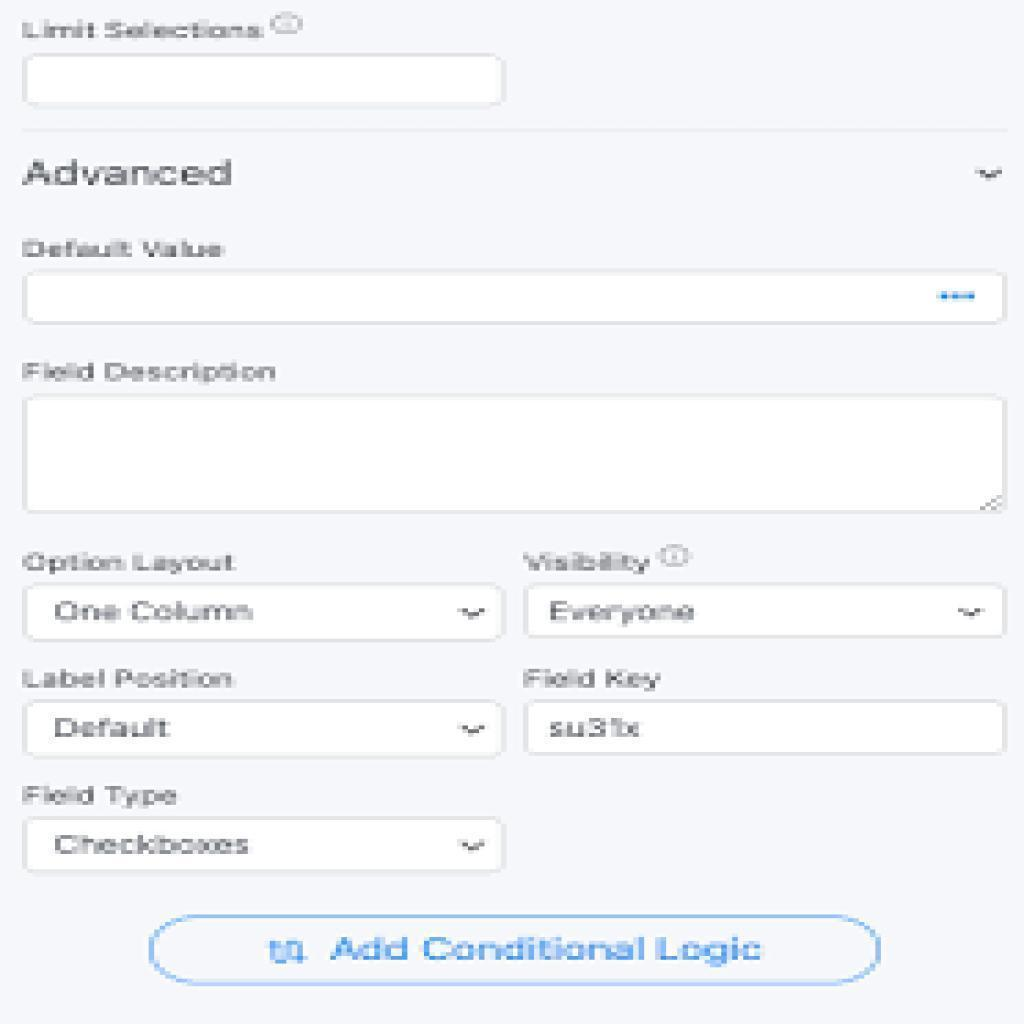button: (144, 910, 882, 988)
dropdown: (26, 581, 505, 646), (523, 582, 1009, 641), (21, 699, 507, 757), (19, 817, 508, 870)
icon: (967, 156, 1012, 194)
input: (24, 271, 1004, 326), (24, 56, 504, 106), (523, 703, 1010, 749)
